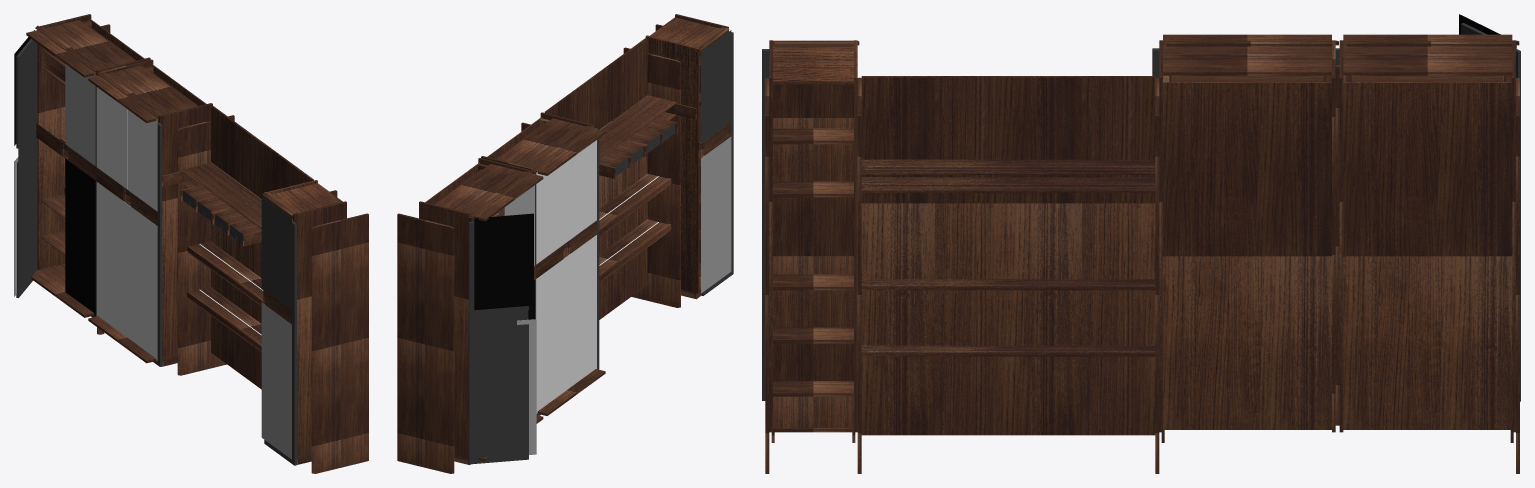
The model's file is Cupboard_draco.glb.
3 renders of one model, left to right at view 1: azimuth 30°, elevation 25°; view 2: azimuth 150°, elevation 25°; view 3: azimuth 270°, elevation 25°, orthographic. The views are drawn at different scales.
Parts seen in each view (by area): view 1: perfils 3.001, Cube.067, Obj_000021.004, Cube.053, Obj_000112.007, Obj_000112.001, Cube.063, Cube.044, Cube.059, Cube.055, Cube.047, Cube.060 (+27 smaller); view 2: perfils 2.001, Cube.053, My Closet By Porada.001, Obj_000021.001, Cube.051, Cube.066, Obj_000112.007, Cube.059, Cube.044, Cube.047, Cube.060, Obj_000114.001 (+23 smaller); view 3: Obj_000111.003, Obj_000111.001, Cube.067, My Closet By Porada.001, Cube.065, Obj_000114.003, Obj_000114.001, cube 230.003, cube 230.002, Obj_000233.013, Obj_000233.014, Cube.062 (+21 smaller).
Boxes of the visible parts, x1,y1,x2,y2 form: perfils 3.001: [311, 213, 368, 473]; Cube.067: [211, 105, 262, 389]; Obj_000021.004: [177, 115, 234, 375]; Cube.053: [16, 39, 37, 297]; Obj_000112.007: [37, 14, 91, 269]; Obj_000112.001: [158, 103, 212, 360]; Cube.063: [293, 201, 346, 458]; Cube.044: [96, 182, 127, 336]; Cube.059: [261, 302, 291, 459]; Cube.055: [65, 158, 95, 315]; Cube.047: [127, 204, 157, 360]; Cube.060: [261, 196, 291, 309]; perfils 2.001: [397, 213, 454, 473]; Cube.053: [468, 221, 528, 464]; My Closet By Porada.001: [595, 38, 647, 319]; Obj_000021.001: [623, 47, 680, 307]; Cube.051: [474, 213, 533, 310]; Cube.066: [645, 35, 699, 293]; Obj_000112.007: [419, 201, 472, 458]; Cube.059: [701, 136, 731, 293]; Cube.044: [536, 257, 566, 413]; Cube.047: [566, 235, 596, 389]; Cube.060: [701, 30, 731, 143]; Obj_000114.001: [497, 118, 605, 175]; Obj_000111.003: [1343, 82, 1512, 429]; Obj_000111.001: [1163, 82, 1331, 429]; Cube.067: [1008, 76, 1155, 435]; My Closet By Porada.001: [861, 76, 1008, 435]; Cube.065: [773, 84, 853, 428]; Obj_000114.003: [1343, 34, 1512, 75]; Obj_000114.001: [1163, 34, 1331, 75]; cube 230.003: [861, 177, 1155, 192]; cube 230.002: [861, 159, 1155, 174]; Obj_000233.013: [861, 279, 1155, 290]; Obj_000233.014: [861, 345, 1155, 356]; Cube.062: [773, 45, 853, 84].
Bounding box in the file's own units: 7.07 × 15.11 × 27.24.
7 materials, 1 textured.
